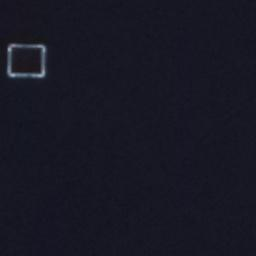square_solid: (4, 40, 49, 81)
